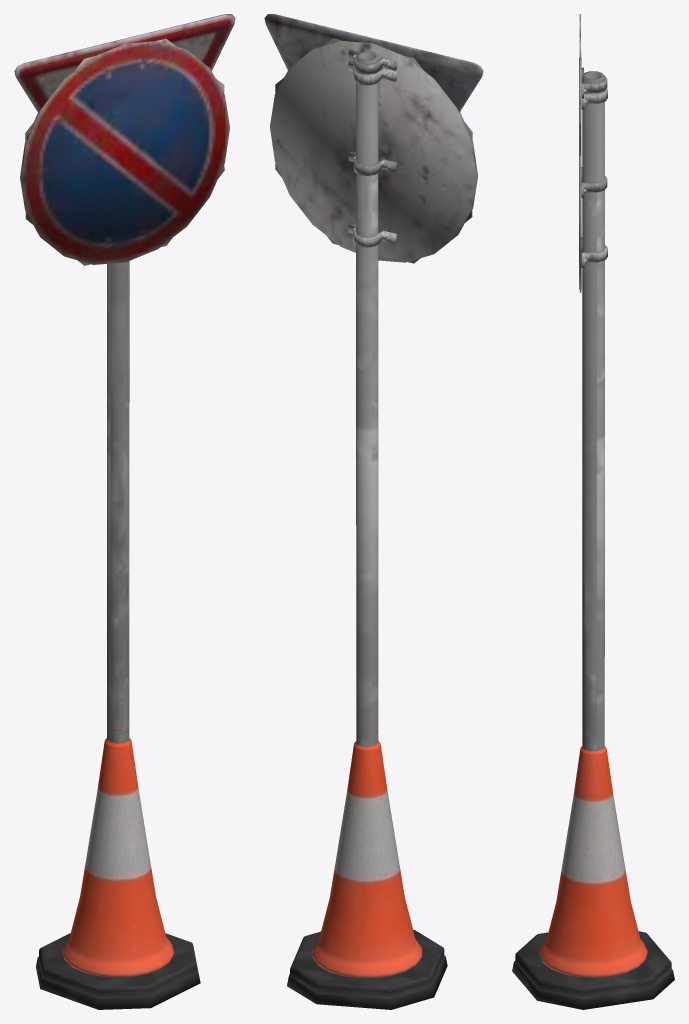
The model's file is signs.glb.
The picture shows the model from 3 angles, left to right: view 1: azimuth 30°, elevation 25°; view 2: azimuth 150°, elevation 25°; view 3: azimuth 270°, elevation 25°; orthographic projection. The views are drawn at different scales.
Visible parts, largest first — view 1: sign_nowaiting, cone, sign_giveway, sign_stop; view 2: sign_nowaiting, cone, sign_giveway; view 3: cone, sign_stop, sign_nowaiting, sign_giveway.
Boxes of the visible parts, left/top/right/bottom form: sign_nowaiting: left=20, top=41, right=229, bottom=741; cone: left=36, top=725, right=200, bottom=1009; sign_giveway: left=14, top=14, right=235, bottom=743; sign_stop: left=25, top=38, right=224, bottom=739; sign_nowaiting: left=270, top=41, right=477, bottom=747; cone: left=287, top=729, right=447, bottom=1009; sign_giveway: left=264, top=14, right=483, bottom=742; cone: left=512, top=733, right=674, bottom=1009; sign_stop: left=579, top=53, right=606, bottom=751; sign_nowaiting: left=579, top=57, right=607, bottom=750; sign_giveway: left=579, top=14, right=607, bottom=748.
Size of the model in its own units: 1.49 by 6.07 by 0.983.
Materials: 14 (14 with a texture image).
